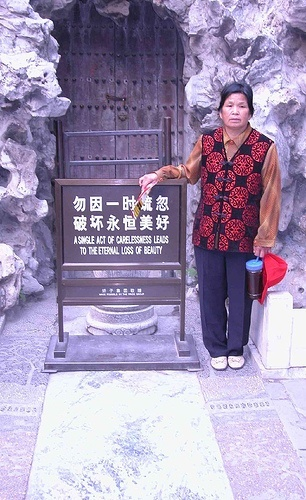head: (217, 82, 257, 134)
person: (136, 80, 283, 371)
